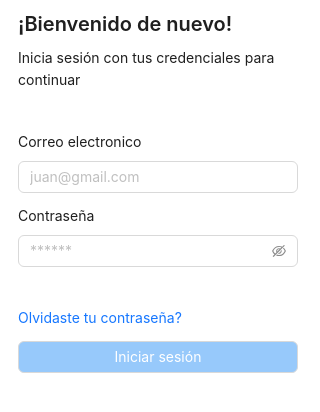
Scenario: Login Validation Test › Email Validation Test › should show an error for invalid email format
Step 1. Type "testInvalid.com" into the field with placeholder "juan@gmail.com" → (158,177), box [18,161,298,193]
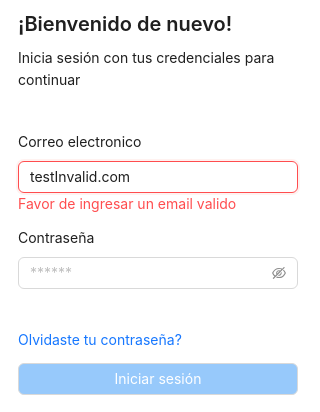
Now the text "Favor de ingresar un email valido" is shown, box [18,195,236,212]
